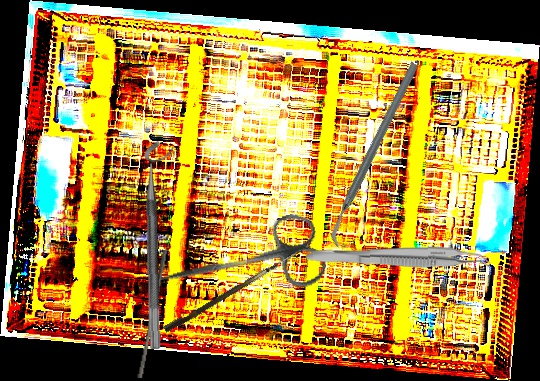Chopper: (276, 60, 474, 249)
Fixation Ring: (144, 140, 178, 350)
Hook Surgical: (163, 238, 310, 336)
Iris Scissors: (151, 209, 330, 319)
Pusher: (136, 249, 168, 379)
Tissue Forceps: (305, 245, 493, 273)
